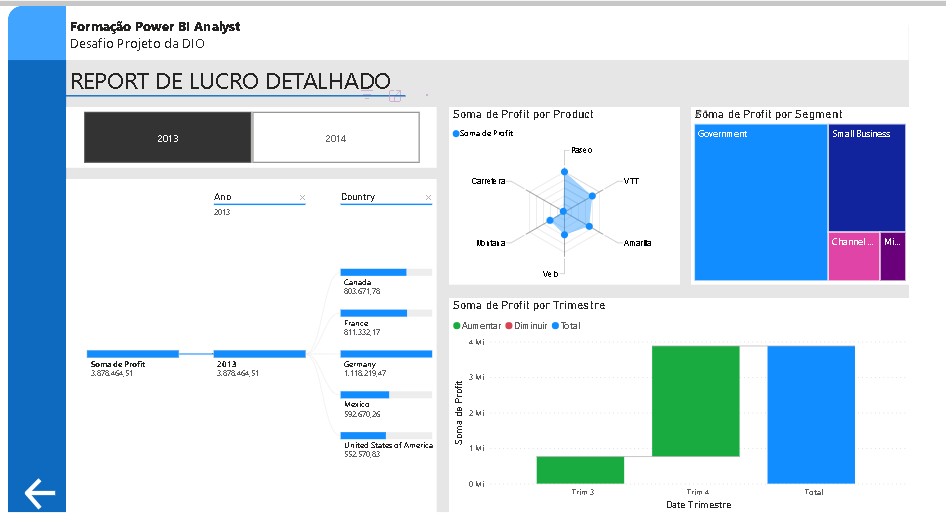

This screenshot's page, from the dashboard's own definition file:
{"tool":"powerbi","page":{"name":"Página 2","canvas":[1280,720],"ordinal":1},"visuals":[{"type":"shape","box":[0,0,1280,719.3],"z":0},{"type":"shape","box":[0,0,83.1,719.3],"z":1000},{"type":"shape","box":[0,0,83.1,77.4],"z":2000},{"type":"shape","box":[83.1,0,1196.9,77.4],"z":3000},{"type":"textbox","box":[83.1,9.4,993,60.4],"z":4000},{"type":"shape","title":"LINHA","box":[82,52,482,150],"z":5000},{"type":"textbox","box":[82,76,482,68],"z":6000},{"type":"shape","box":[82,246,526,474],"z":7000},{"type":"shape","box":[626,414,654,306],"z":8000},{"type":"actionButton","box":[20,666,126,54],"z":9000},{"type":"shape","box":[970,144,310,252],"z":10000},{"type":"shape","box":[82,144,526,86],"z":11000},{"type":"shape","box":[626,144,328,252],"z":12000},{"type":"RadarChart1446119667547","fields":{"Y":["Sum(financials.Profit)"],"Category":["financials.Product"]},"box":[626,144,328,252],"z":13000},{"type":"treemap","fields":{"Values":["Sum(financials.Profit)"],"Group":["financials.Segment"]},"box":[970,144,310,252],"z":14000},{"type":"waterfallChart","fields":{"Category":["financials.Date.Variation.Hierarquia de datas.Trimestre"],"Y":["Sum(financials.Profit)"]},"box":[626,414,654,306],"z":15000},{"type":"textbox","box":[106,290,300,300],"z":16000},{"type":"decompositionTreeVisual","fields":{"Analyze":["Sum(financials.Profit)"],"ExplainBy":["financials.Date.Variation.Hierarquia de datas.Ano","financials.Country"]},"box":[82,246,526,474],"z":17000},{"type":"slicer","fields":{"Values":["financials.Date.Variation.Hierarquia de datas.Ano"]},"box":[82,144,526,86],"z":18000}]}

Visuals, with their boxes on the page's 1280x720 design canvas (x1, y1, x2, y2). These are canvas units, not pixel positions in the 946x513 screenshot, which may show the page scaled, cropped or inside an application window:
shape: detection(0, 0, 1280, 719)
shape: detection(0, 0, 83, 719)
shape: detection(0, 0, 83, 77)
shape: detection(83, 0, 1280, 77)
textbox: detection(83, 9, 1076, 70)
"LINHA" shape: detection(82, 52, 564, 202)
textbox: detection(82, 76, 564, 144)
shape: detection(82, 246, 608, 720)
shape: detection(626, 414, 1280, 720)
actionButton: detection(20, 666, 146, 720)
shape: detection(970, 144, 1280, 396)
shape: detection(82, 144, 608, 230)
shape: detection(626, 144, 954, 396)
RadarChart1446119667547 - Sum(financials.Profit) x financials.Product: detection(626, 144, 954, 396)
treemap - Sum(financials.Profit) x financials.Segment: detection(970, 144, 1280, 396)
waterfallChart - financials.Date.Variation.Hierarquia de datas.Trimestre x Sum(financials.Profit): detection(626, 414, 1280, 720)
textbox: detection(106, 290, 406, 590)
decompositionTreeVisual - Sum(financials.Profit) x financials.Date.Variation.Hierarquia de datas.Ano: detection(82, 246, 608, 720)
slicer - financials.Date.Variation.Hierarquia de datas.Ano: detection(82, 144, 608, 230)
